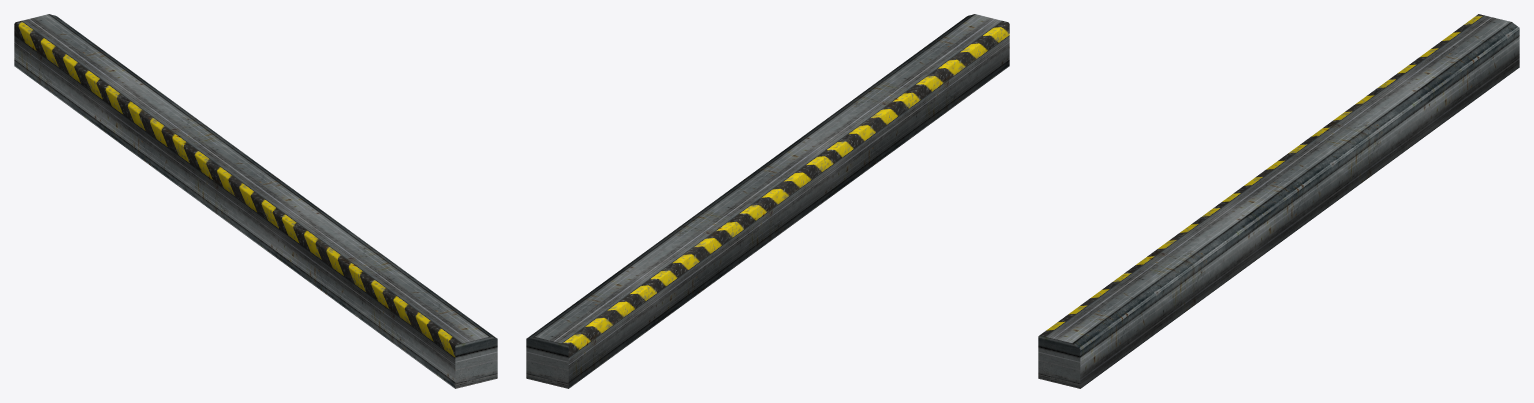
File: Edges_01.fbx
3 views of the same model, side by side, from view 1: azimuth 30°, elevation 25°; view 2: azimuth 150°, elevation 25°; view 3: azimuth 330°, elevation 25° (orthographic).
Parts seen in each view (by area): view 1: Edges_01; view 2: Edges_01; view 3: Edges_01.
Part boxes in pixels (x1,y1,x2,y2): Edges_01: (14,14,497,388); Edges_01: (526,14,1009,388); Edges_01: (1038,14,1519,388).
Bounding box in the file's own units: 27.63 × 27.46 × 500.
Materials: 1 (1 with a texture image).
